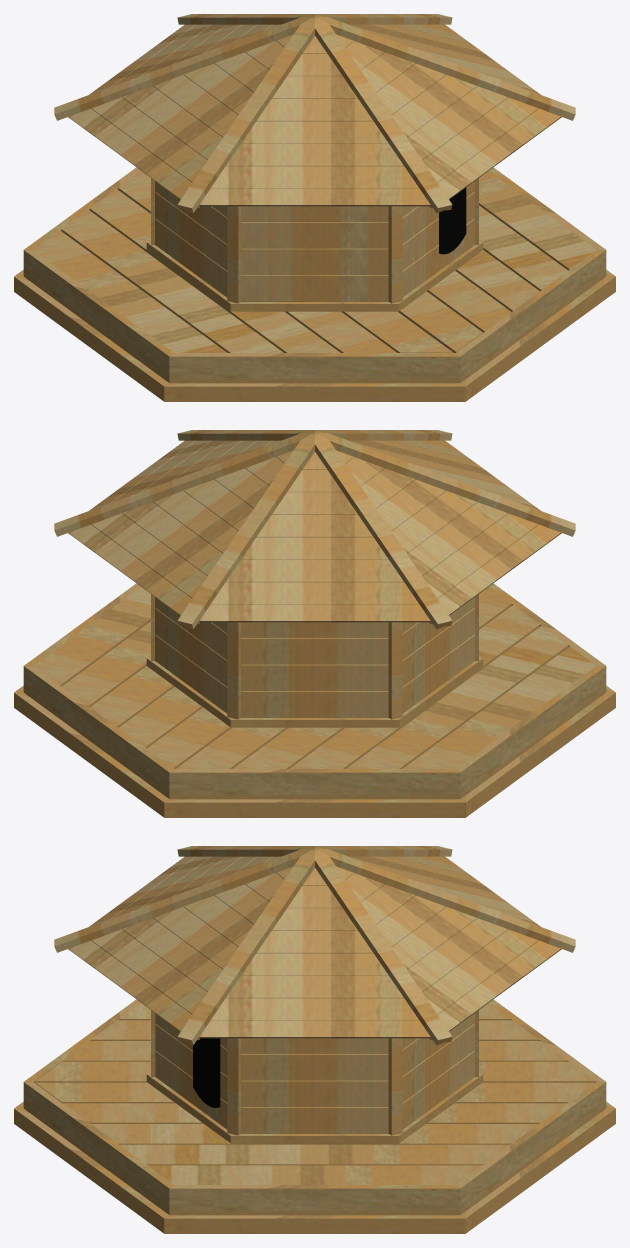
Rendered from FloatingDuckHouse.glb.
3 renders of one model, top to bottom at view 1: azimuth 30°, elevation 25°; view 2: azimuth 150°, elevation 25°; view 3: azimuth 270°, elevation 25°, orthographic.
Visible parts, largest first — view 1: SidingWalls (×10), BaseEdge (×5), RoofRidgeCap (×6), RoofCovering#7 (×5), BaseEdgeTrim (×3), RoofCovering#8 (×5), DeckPlank4 (×2), RoofCovering#6 (×5), DeckPlank6 (×2), RoofCovering#5 (×5), DeckPlank3 (×2), RoofCovering#4 (×3) (+7 smaller); view 2: SidingWalls (×10), BaseEdge (×5), RoofRidgeCap (×6), RoofCovering#7 (×5), BaseEdgeTrim (×3), RoofCovering#8 (×5), DeckPlank4 (×2), RoofCovering#6 (×5), DeckPlank6 (×2), RoofCovering#5 (×5), DeckPlank3 (×2), RoofCovering#4 (×3) (+6 smaller); view 3: SidingWalls (×10), BaseEdge (×5), RoofRidgeCap (×6), RoofCovering#7 (×5), BaseEdgeTrim (×3), RoofCovering#8 (×5), RoofCovering#6 (×5), DeckPlank1 (×2), DeckPlank4 (×2), RoofCovering#5 (×5), DeckPlank2 (×2), DeckPlank3 (×2) (+7 smaller).
Part boxes in pixels (x1,y1,x2,y2): SidingWalls (×10): (155,181,474,301); BaseEdge (×5): (23,167,606,383); RoofRidgeCap (×6): (54,14,575,213); RoofCovering#7 (×5): (91,24,538,188); BaseEdgeTrim (×3): (14,276,615,401); RoofCovering#8 (×5): (68,24,561,206); DeckPlank4 (×2): (61,205,567,352); RoofCovering#6 (×5): (122,24,507,166); DeckPlank6 (×2): (34,171,595,352); RoofCovering#5 (×5): (153,24,476,143); DeckPlank3 (×2): (90,189,539,352); RoofCovering#4 (×3): (183,63,446,121); SidingWalls (×10): (155,597,474,717); BaseEdge (×5): (23,583,606,799); RoofRidgeCap (×6): (54,430,575,629); RoofCovering#7 (×5): (91,440,538,604); BaseEdgeTrim (×3): (14,692,615,817); RoofCovering#8 (×5): (68,440,561,622); DeckPlank4 (×2): (62,621,568,768); RoofCovering#6 (×5): (122,440,507,582); DeckPlank6 (×2): (34,587,595,768); RoofCovering#5 (×5): (153,440,476,559); DeckPlank3 (×2): (90,605,539,768); RoofCovering#4 (×3): (183,479,446,537); SidingWalls (×10): (155,1013,474,1133); BaseEdge (×5): (23,999,606,1215); RoofRidgeCap (×6): (54,846,575,1045); RoofCovering#7 (×5): (91,856,538,1020); BaseEdgeTrim (×3): (14,1108,615,1233); RoofCovering#8 (×5): (68,856,561,1038); RoofCovering#6 (×5): (122,856,507,998); DeckPlank1 (×2): (35,1061,595,1103); DeckPlank4 (×2): (119,1003,510,1165); RoofCovering#5 (×5): (153,856,476,975); DeckPlank2 (×2): (62,1041,567,1123); DeckPlank3 (×2): (91,1020,538,1144).
Bounding box in the file's own units: 1.57 × 0.9198 × 1.82.
200 materials, 199 textured.
